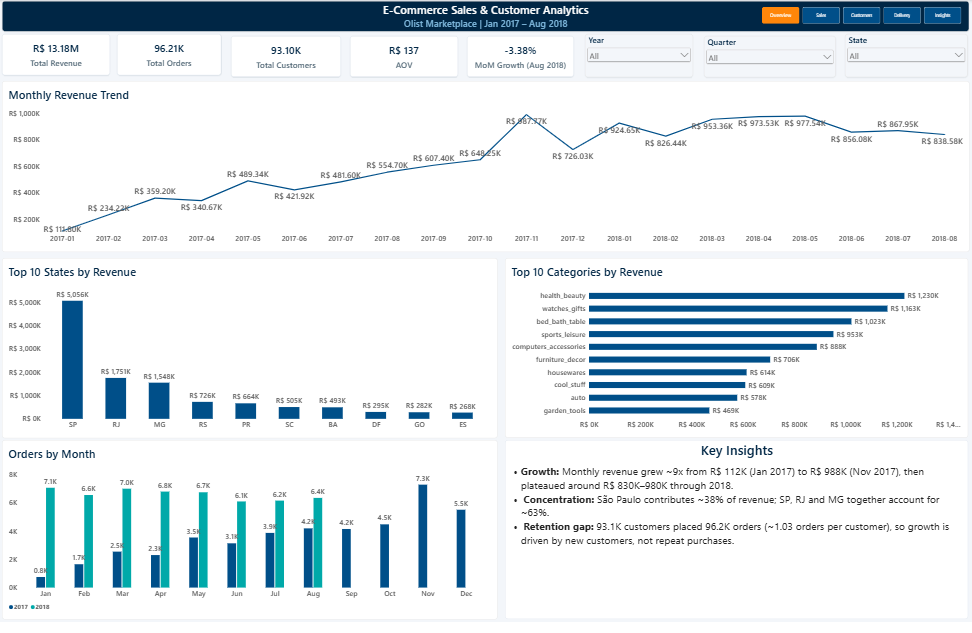

This screenshot's page, from the dashboard's own definition file:
{"tool":"powerbi","page":{"name":"Overview","canvas":[2560,1650],"ordinal":0},"visuals":[{"type":"card","fields":{"Values":["_Measures.Total Revenue"]},"box":[10.5,91.7,283.3,107.9],"z":0},{"type":"textbox","title":"E-Commerce Sales & Customer Analytics","box":[11.4,4.6,2532.6,80],"z":1000},{"type":"slicer","fields":{"Values":["Dim_Date.Year"]},"box":[1538.1,91.7,283.3,113.3],"z":2000},{"type":"slicer","fields":{"Values":["Dim_Date.Quarter"]},"box":[1848.4,97.1,345.4,107.9],"z":3000},{"type":"slicer","fields":{"Values":["Fact_OrderItems.customer_state"]},"box":[2218.1,91.7,321.1,113.3],"z":4000},{"type":"card","fields":{"Values":["_Measures.Total Orders"]},"box":[311.7,91.7,272.5,107.9],"z":5000},{"type":"card","fields":{"Values":["_Measures.Total Customers"]},"box":[610.2,96.9,288.1,107.4],"z":6000},{"type":"card","fields":{"Values":["_Measures.AOV"]},"box":[921.9,96.9,282.9,107.4],"z":7000},{"type":"card","fields":{"Values":["_Measures.Latest MoM %"]},"box":[1228.3,96.9,280.2,107.4],"z":8000},{"type":"lineChart","title":"Monthly Revenue Trend","fields":{"Category":["Dim_Date.Year-Month"],"Y":["_Measures.Total Revenue"]},"box":[10.8,215.9,2533.8,447.9],"z":9000},{"type":"clusteredBarChart","title":"Top 10 Categories by Revenue","fields":{"Category":["Fact_OrderItems.category"],"Y":["_Measures.Total Revenue"]},"box":[1327.9,678.3,1212.6,471.4],"z":10000},{"type":"columnChart","title":"Top 10 States by Revenue","fields":{"Category":["Fact_OrderItems.customer_state"],"Y":["_Measures.Total Revenue"]},"box":[10.8,677.3,1297.9,472.2],"z":11000},{"type":"clusteredColumnChart","title":"Orders by Month","fields":{"Category":["Dim_Date.Month Name"],"Series":["Dim_Date.Year"],"Y":["_Measures.Total Orders"]},"box":[10.8,1154.9,1297.9,469.5],"z":12000},{"type":"textbox","title":"Key Insights","box":[1327.9,1155,1212.6,468.8],"z":13000},{"type":"pageNavigator","box":[2001,21,526.4,44.5],"z":14500}]}

Visuals, with their boxes in screenshot pixels (x1, y1, x2, y2), scaled from the page's 2560x1650 canvas onto the 972x633 screenshot:
card - _Measures.Total Revenue: [left=4, top=35, right=112, bottom=77]
"E-Commerce Sales & Customer Analytics" textbox: [left=4, top=2, right=966, bottom=32]
slicer - Dim_Date.Year: [left=584, top=35, right=692, bottom=79]
slicer - Dim_Date.Quarter: [left=702, top=37, right=833, bottom=79]
slicer - Fact_OrderItems.customer_state: [left=842, top=35, right=964, bottom=79]
card - _Measures.Total Orders: [left=118, top=35, right=222, bottom=77]
card - _Measures.Total Customers: [left=232, top=37, right=341, bottom=78]
card - _Measures.AOV: [left=350, top=37, right=457, bottom=78]
card - _Measures.Latest MoM %: [left=466, top=37, right=573, bottom=78]
"Monthly Revenue Trend" lineChart: [left=4, top=83, right=966, bottom=255]
"Top 10 Categories by Revenue" clusteredBarChart: [left=504, top=260, right=965, bottom=441]
"Top 10 States by Revenue" columnChart: [left=4, top=260, right=497, bottom=441]
"Orders by Month" clusteredColumnChart: [left=4, top=443, right=497, bottom=623]
"Key Insights" textbox: [left=504, top=443, right=965, bottom=623]
pageNavigator: [left=760, top=8, right=960, bottom=25]
